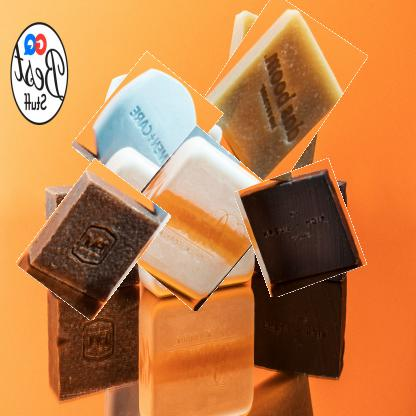soap: (196, 1, 348, 192), (120, 136, 272, 302), (30, 166, 156, 314), (85, 61, 210, 198), (242, 166, 359, 292)
